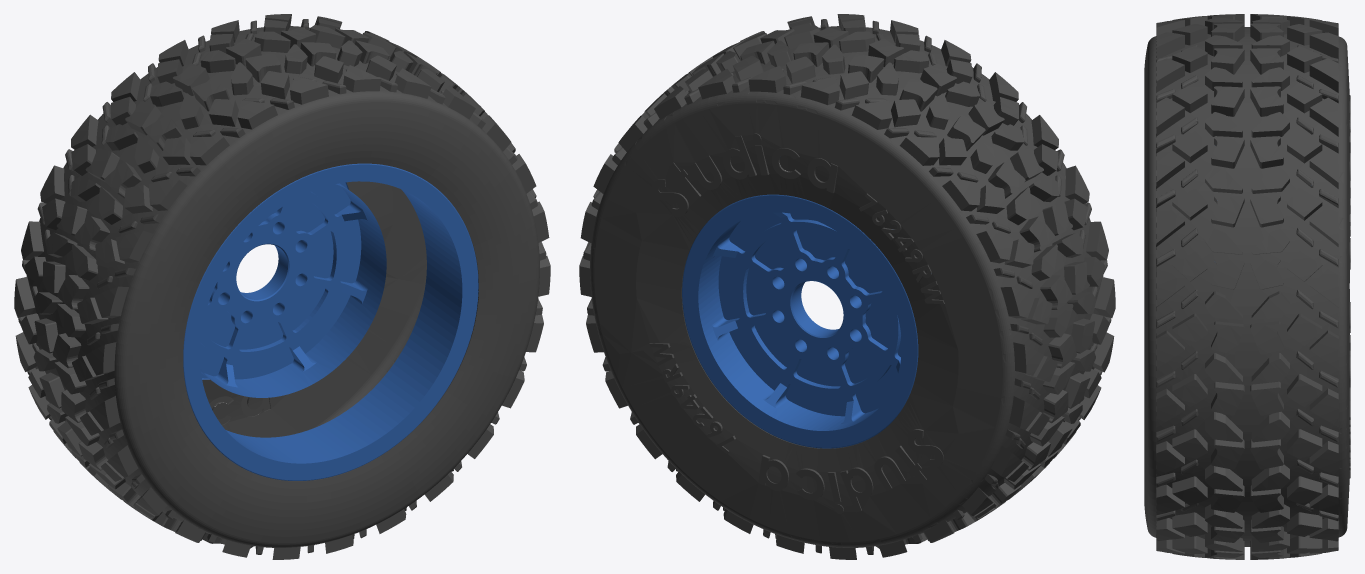
The model's file is br_wheel_2.dae.
The picture shows the model from 3 angles, left to right: view 1: azimuth 30°, elevation 25°; view 2: azimuth 150°, elevation 25°; view 3: azimuth 270°, elevation 25°; orthographic projection. The views are drawn at different scales.
Visible parts, largest first — view 1: node_9e5f1236_2bf9_4c77_836f_ebc7e19538a7_mesh0, node_9e5f1236_2bf9_4c77_836f_ebc7e19538a7_mesh6, node_9e5f1236_2bf9_4c77_836f_ebc7e19538a7_mesh1, node_9e5f1236_2bf9_4c77_836f_ebc7e19538a7_mesh4, node_9e5f1236_2bf9_4c77_836f_ebc7e19538a7_mesh2, node_9e5f1236_2bf9_4c77_836f_ebc7e19538a7_mesh5, node_9e5f1236_2bf9_4c77_836f_ebc7e19538a7_mesh7, node_9e5f1236_2bf9_4c77_836f_ebc7e19538a7_mesh3; view 2: node_9e5f1236_2bf9_4c77_836f_ebc7e19538a7_mesh0, node_9e5f1236_2bf9_4c77_836f_ebc7e19538a7_mesh6, node_9e5f1236_2bf9_4c77_836f_ebc7e19538a7_mesh2, node_9e5f1236_2bf9_4c77_836f_ebc7e19538a7_mesh7, node_9e5f1236_2bf9_4c77_836f_ebc7e19538a7_mesh5, node_9e5f1236_2bf9_4c77_836f_ebc7e19538a7_mesh4, node_9e5f1236_2bf9_4c77_836f_ebc7e19538a7_mesh1, node_9e5f1236_2bf9_4c77_836f_ebc7e19538a7_mesh3; view 3: node_9e5f1236_2bf9_4c77_836f_ebc7e19538a7_mesh0, node_9e5f1236_2bf9_4c77_836f_ebc7e19538a7_mesh2, node_9e5f1236_2bf9_4c77_836f_ebc7e19538a7_mesh1, node_9e5f1236_2bf9_4c77_836f_ebc7e19538a7_mesh4, node_9e5f1236_2bf9_4c77_836f_ebc7e19538a7_mesh5, node_9e5f1236_2bf9_4c77_836f_ebc7e19538a7_mesh3, node_9e5f1236_2bf9_4c77_836f_ebc7e19538a7_mesh7.
Boxes of the visible parts, x1,y1,x2,y2 form: node_9e5f1236_2bf9_4c77_836f_ebc7e19538a7_mesh0: (26,26,539,547); node_9e5f1236_2bf9_4c77_836f_ebc7e19538a7_mesh6: (183,163,478,480); node_9e5f1236_2bf9_4c77_836f_ebc7e19538a7_mesh1: (52,40,546,554); node_9e5f1236_2bf9_4c77_836f_ebc7e19538a7_mesh4: (55,41,550,553); node_9e5f1236_2bf9_4c77_836f_ebc7e19538a7_mesh2: (14,14,465,541); node_9e5f1236_2bf9_4c77_836f_ebc7e19538a7_mesh5: (16,14,440,499); node_9e5f1236_2bf9_4c77_836f_ebc7e19538a7_mesh7: (103,79,550,559); node_9e5f1236_2bf9_4c77_836f_ebc7e19538a7_mesh3: (18,19,406,548); node_9e5f1236_2bf9_4c77_836f_ebc7e19538a7_mesh0: (590,26,1103,547); node_9e5f1236_2bf9_4c77_836f_ebc7e19538a7_mesh6: (682,194,918,448); node_9e5f1236_2bf9_4c77_836f_ebc7e19538a7_mesh2: (621,26,1107,544); node_9e5f1236_2bf9_4c77_836f_ebc7e19538a7_mesh7: (579,79,1026,559); node_9e5f1236_2bf9_4c77_836f_ebc7e19538a7_mesh5: (579,41,1074,553); node_9e5f1236_2bf9_4c77_836f_ebc7e19538a7_mesh4: (688,14,1113,500); node_9e5f1236_2bf9_4c77_836f_ebc7e19538a7_mesh1: (714,14,1115,542); node_9e5f1236_2bf9_4c77_836f_ebc7e19538a7_mesh3: (583,68,1042,554); node_9e5f1236_2bf9_4c77_836f_ebc7e19538a7_mesh0: (1144,27,1349,546); node_9e5f1236_2bf9_4c77_836f_ebc7e19538a7_mesh2: (1173,14,1350,559); node_9e5f1236_2bf9_4c77_836f_ebc7e19538a7_mesh1: (1156,14,1244,559); node_9e5f1236_2bf9_4c77_836f_ebc7e19538a7_mesh4: (1156,14,1244,553); node_9e5f1236_2bf9_4c77_836f_ebc7e19538a7_mesh5: (1250,14,1350,559); node_9e5f1236_2bf9_4c77_836f_ebc7e19538a7_mesh3: (1165,35,1338,559); node_9e5f1236_2bf9_4c77_836f_ebc7e19538a7_mesh7: (1349,95,1350,478).
Size of the model in its own units: 125 by 47.32 by 125.
